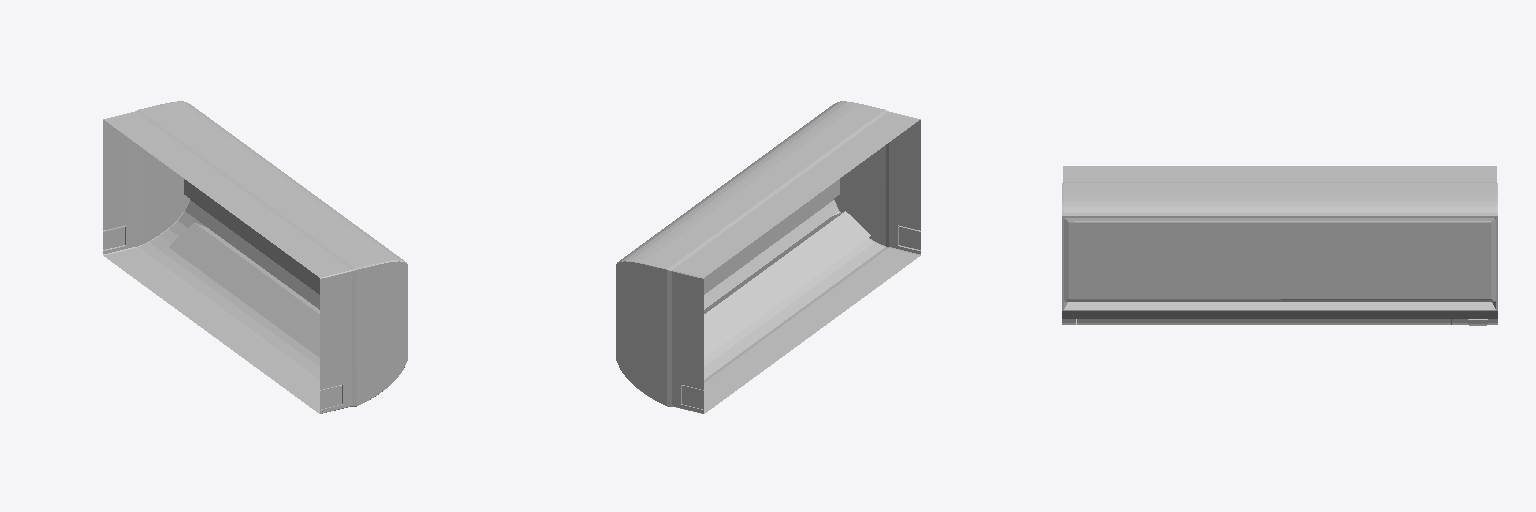
The model's file is Conditioner.obj.
3 views of the same model, side by side, from view 1: azimuth 30°, elevation 25°; view 2: azimuth 150°, elevation 25°; view 3: azimuth 270°, elevation 25° (orthographic).
Parts seen in each view (by area): view 1: Conditioner, textureEditorIsolateSelectSet Conditioner; view 2: Conditioner, textureEditorIsolateSelectSet Conditioner; view 3: Conditioner, textureEditorIsolateSelectSet Conditioner.
Part boxes in pixels (x1,y1,x2,y2): Conditioner: (103, 101, 406, 413); textureEditorIsolateSelectSet Conditioner: (138, 145, 407, 406); Conditioner: (617, 101, 920, 413); textureEditorIsolateSelectSet Conditioner: (616, 145, 885, 406); Conditioner: (1062, 166, 1497, 325); textureEditorIsolateSelectSet Conditioner: (1062, 216, 1497, 310).
Size of the model in its own units: 19.28 by 28.5 by 82.